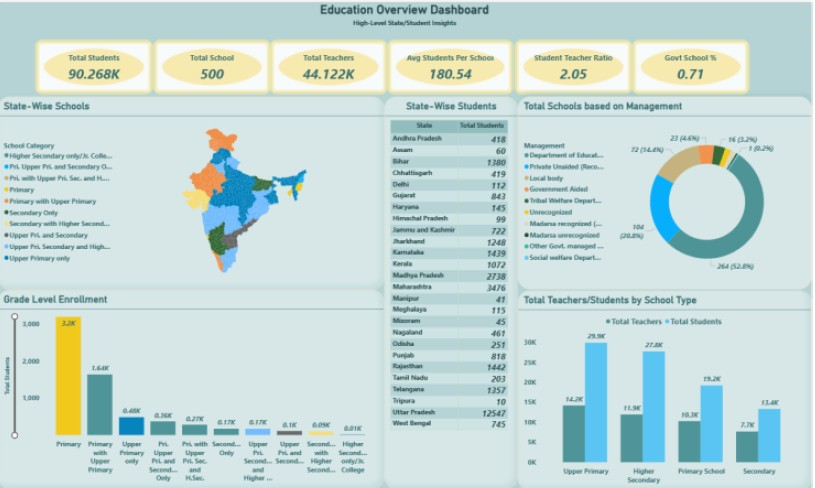

Layout of this report page (visuals, bound fields, positions):
{"tool":"powerbi","page":{"name":"Education Overview Dashboard","canvas":[2000,1200],"ordinal":0},"visuals":[{"type":"cardVisual","fields":{"Data":["Education_School_DataSet.Total School"]},"box":[371.7,81.7,310,155],"z":0},{"type":"cardVisual","fields":{"Data":["Education_School_DataSet.Total Students"]},"box":[81.7,81.7,310,155],"z":1000},{"type":"cardVisual","fields":{"Data":["Education_School_DataSet.Total Teachers"]},"box":[658.3,81.7,310,155],"z":2000},{"type":"cardVisual","fields":{"Data":["Education_School_DataSet.Avg Students Per School"]},"box":[946.7,81.7,331.7,155],"z":3000},{"type":"cardVisual","fields":{"Data":["Education_School_DataSet.Student Teacher Ratio"]},"box":[1260,81.7,310,155],"z":4000},{"type":"shapeMap","title":"State-Wise Schools","fields":{"Category":["Education_School_DataSet.State"],"Series":["Education_School_DataSet.School Category"],"Value":["Education_School_DataSet.Total School"]},"box":[0,231.7,950,475],"z":5000},{"type":"donutChart","title":"Total Schools based on Management","fields":{"Category":["Education_School_DataSet.Management"],"Y":["Education_School_DataSet.Total School"]},"box":[1278,232,722,474],"z":6000},{"type":"clusteredColumnChart","title":"Total Teachers/Students by School Type ","fields":{"Category":["Education_School_DataSet.School Type "],"Y":["Education_School_DataSet.Total Teachers","Education_School_DataSet.Total Students"]},"box":[1278,708,722,492],"z":7000},{"type":"columnChart","title":"Grade Level Enrollment","fields":{"Category":["Education_School_DataSet.School Category"],"Y":["CountNonNull(Education_School_DataSet.Grades)"]},"box":[0,706.7,950,490],"z":8000},{"type":"textbox","title":"Education Overview Dashboard","box":[0,0,2000,78],"z":9000},{"type":"pivotTable","title":"State-Wise Students","fields":{"Values":["Education_School_DataSet.Total Students"],"Rows":["Education_School_DataSet.State Hierarchy.State","Education_School_DataSet.State Hierarchy.District Name","Education_School_DataSet.Year of Establishment.Variation.Date Hierarchy.Year","Education_School_DataSet.Year of Establishment.Variation.Date Hierarchy.Quarter","Education_School_DataSet.Year of Establishment.Variation.Date Hierarchy.Month","Education_School_DataSet.Year of Establishment.Variation.Date Hierarchy.Day"]},"box":[950,231.7,328.3,965],"z":10000},{"type":"cardVisual","fields":{"Data":["Education_School_DataSet.Govt School %"]},"box":[1548.3,81.7,310,155],"z":11000}]}

Visuals, with their boxes in screenshot pixels (x1, y1, x2, y2), scaled from the page's 2000x1200 canvas onto the 815x488 screenshot:
cardVisual - Education_School_DataSet.Total School: {"x1": 151, "y1": 33, "x2": 278, "y2": 96}
cardVisual - Education_School_DataSet.Total Students: {"x1": 33, "y1": 33, "x2": 160, "y2": 96}
cardVisual - Education_School_DataSet.Total Teachers: {"x1": 268, "y1": 33, "x2": 395, "y2": 96}
cardVisual - Education_School_DataSet.Avg Students Per School: {"x1": 386, "y1": 33, "x2": 521, "y2": 96}
cardVisual - Education_School_DataSet.Student Teacher Ratio: {"x1": 513, "y1": 33, "x2": 640, "y2": 96}
"State-Wise Schools" shapeMap: {"x1": 0, "y1": 94, "x2": 387, "y2": 287}
"Total Schools based on Management" donutChart: {"x1": 521, "y1": 94, "x2": 814, "y2": 287}
"Total Teachers/Students by School Type " clusteredColumnChart: {"x1": 521, "y1": 288, "x2": 814, "y2": 487}
"Grade Level Enrollment" columnChart: {"x1": 0, "y1": 287, "x2": 387, "y2": 487}
"Education Overview Dashboard" textbox: {"x1": 0, "y1": 0, "x2": 814, "y2": 32}
"State-Wise Students" pivotTable: {"x1": 387, "y1": 94, "x2": 521, "y2": 487}
cardVisual - Education_School_DataSet.Govt School %: {"x1": 631, "y1": 33, "x2": 757, "y2": 96}
